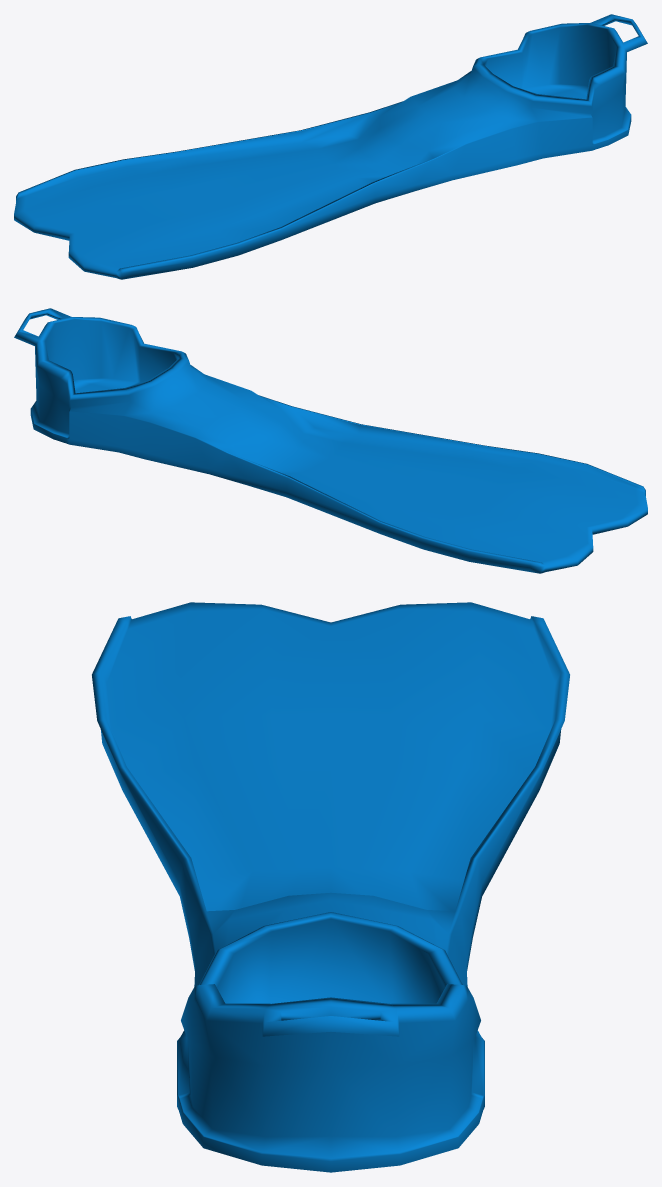
The model's file is Flipper.fbx.
The picture shows the model from 3 angles, top to bottom: view 1: azimuth 30°, elevation 25°; view 2: azimuth 150°, elevation 25°; view 3: azimuth 270°, elevation 25°; orthographic projection. The views are drawn at different scales.
Parts seen in each view (by area): view 1: Flipper; view 2: Flipper; view 3: Flipper.
Part boxes in pixels (<box>): Flipper: <box>14,14,647,279</box>; Flipper: <box>14,308,647,573</box>; Flipper: <box>92,602,569,1172</box>.
Size of the model in its own units: 336 by 46.09 by 119.
